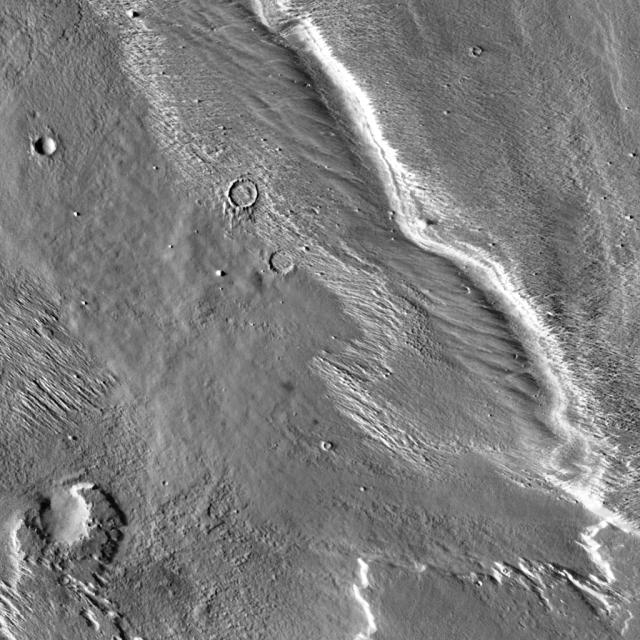crater: (44, 496, 101, 553), (227, 180, 256, 209), (270, 250, 298, 278), (38, 135, 58, 155), (479, 49, 488, 58), (325, 439, 332, 446)
